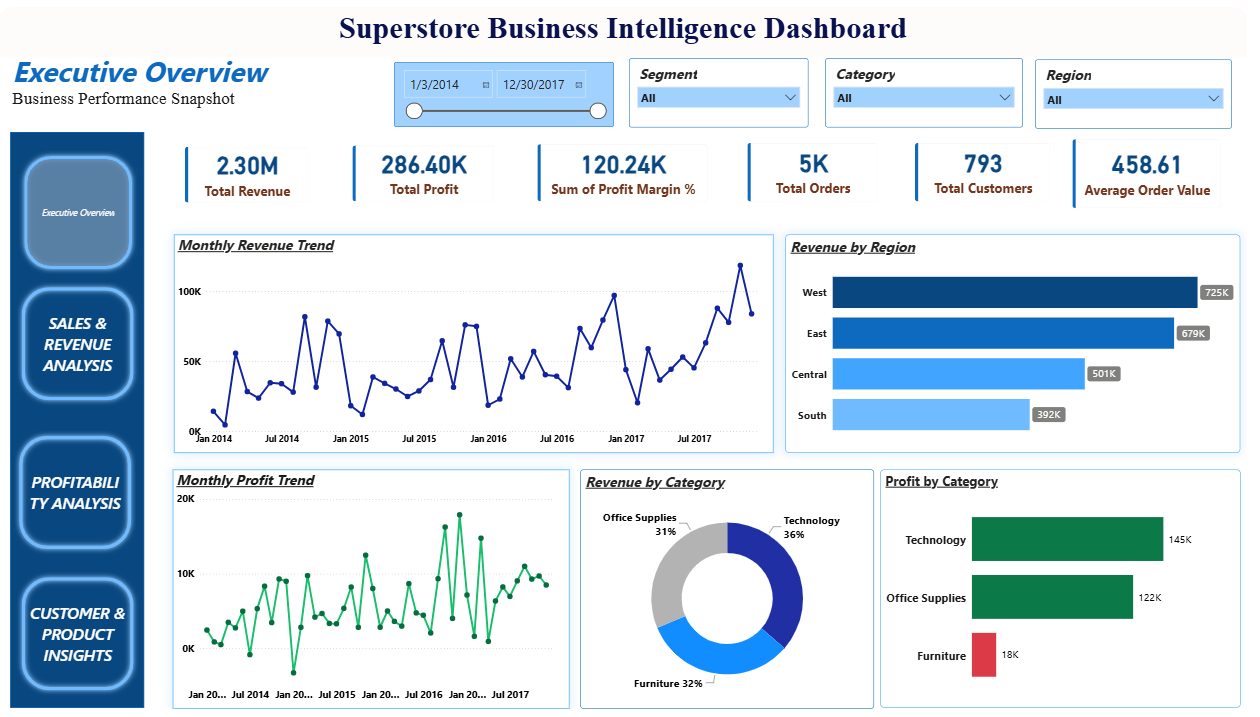

Layout of this report page (visuals, bound fields, positions):
{"tool":"powerbi","page":{"name":"Executive Overview","canvas":[1920,1080],"ordinal":0},"visuals":[{"type":"cardVisual","fields":{"Data":["cleaned_data.Total Revenue"]},"box":[270,198,224,120],"z":0},{"type":"cardVisual","fields":{"Data":["cleaned_data.Total Customers"]},"box":[1392,192,242,124],"z":1000},{"type":"cardVisual","fields":{"Data":["cleaned_data.Total Orders"]},"box":[1134,192,234,124],"z":2000},{"type":"cardVisual","fields":{"Data":["cleaned_data.Total Profit"]},"box":[526,196,252,120],"z":3000},{"type":"cardVisual","fields":{"Data":["Sum(cleaned_data.Profit Margin %)"]},"box":[812,194,296,122],"z":4000},{"type":"cardVisual","fields":{"Data":["cleaned_data.Average Order Value"]},"box":[1634,186,262,140],"z":5000},{"type":"lineChart","title":"Monthly Revenue Trend","fields":{"Y":["cleaned_data.Total Revenue"],"Category":["cleaned_data.Month-Year.Variation.Date Hierarchy.Year","cleaned_data.Month-Year.Variation.Date Hierarchy.Month"]},"box":[270,350,922,336],"z":6000},{"type":"barChart","title":"Revenue by Region","fields":{"Category":["cleaned_data.Region"],"Y":["cleaned_data.Total Revenue"]},"box":[1210,350,700,336],"z":7000},{"type":"donutChart","title":"Revenue by Category","fields":{"Category":["cleaned_data.Category"],"Y":["cleaned_data.Total Revenue"]},"box":[894,712,452,368],"z":8000},{"type":"barChart","title":"Profit by Category","fields":{"Category":["cleaned_data.Category"],"Y":["cleaned_data.Total Profit"]},"box":[1356,712,554,366],"z":9000},{"type":"slicer","fields":{"Values":["cleaned_data.Segment"]},"box":[970,78,276,106],"z":10000},{"type":"slicer","fields":{"Values":["cleaned_data.Category"]},"box":[1272,78,304,106],"z":11000},{"type":"slicer","fields":{"Values":["cleaned_data.Region"]},"box":[1594,80,302,106],"z":12000},{"type":"lineChart","title":"Monthly Profit Trend","fields":{"Y":["cleaned_data.Total Profit"],"Category":["cleaned_data.Order Date.Variation.Date Hierarchy.Year","cleaned_data.Order Date.Variation.Date Hierarchy.Month"]},"box":[268,712,610,368],"z":13000},{"type":"slicer","fields":{"Values":["cleaned_data.Order Date"]},"box":[608,84,338,100],"z":14000},{"type":"textbox","box":[16,64,464,114],"z":15000},{"type":"shape","box":[18,192,206,886],"z":16000},{"type":"shape","box":[0,0,1920,78],"z":17000},{"type":"pageNavigator","box":[26,424,188,190],"z":18000},{"type":"pageNavigator","box":[26,870,188,190],"z":19000},{"type":"pageNavigator","box":[30,222,182,190],"z":20000},{"type":"pageNavigator","box":[24,652,188,190],"z":21000}]}

Visuals, with their boxes in screenshot pixels (x1, y1, x2, y2), scaled from the page's 1920x1080 canvas onto the 1260x717 screenshot:
cardVisual - cleaned_data.Total Revenue: [left=177, top=131, right=324, bottom=211]
cardVisual - cleaned_data.Total Customers: [left=914, top=127, right=1072, bottom=210]
cardVisual - cleaned_data.Total Orders: [left=744, top=127, right=898, bottom=210]
cardVisual - cleaned_data.Total Profit: [left=345, top=130, right=511, bottom=210]
cardVisual - Sum(cleaned_data.Profit Margin %): [left=533, top=129, right=727, bottom=210]
cardVisual - cleaned_data.Average Order Value: [left=1072, top=123, right=1244, bottom=216]
"Monthly Revenue Trend" lineChart: [left=177, top=232, right=782, bottom=455]
"Revenue by Region" barChart: [left=794, top=232, right=1253, bottom=455]
"Revenue by Category" donutChart: [left=587, top=473, right=883, bottom=716]
"Profit by Category" barChart: [left=890, top=473, right=1253, bottom=716]
slicer - cleaned_data.Segment: [left=637, top=52, right=818, bottom=122]
slicer - cleaned_data.Category: [left=835, top=52, right=1034, bottom=122]
slicer - cleaned_data.Region: [left=1046, top=53, right=1244, bottom=123]
"Monthly Profit Trend" lineChart: [left=176, top=473, right=576, bottom=716]
slicer - cleaned_data.Order Date: [left=399, top=56, right=621, bottom=122]
textbox: [left=10, top=42, right=315, bottom=118]
shape: [left=12, top=127, right=147, bottom=716]
shape: [left=0, top=0, right=1259, bottom=52]
pageNavigator: [left=17, top=281, right=140, bottom=408]
pageNavigator: [left=17, top=578, right=140, bottom=704]
pageNavigator: [left=20, top=147, right=139, bottom=274]
pageNavigator: [left=16, top=433, right=139, bottom=559]
